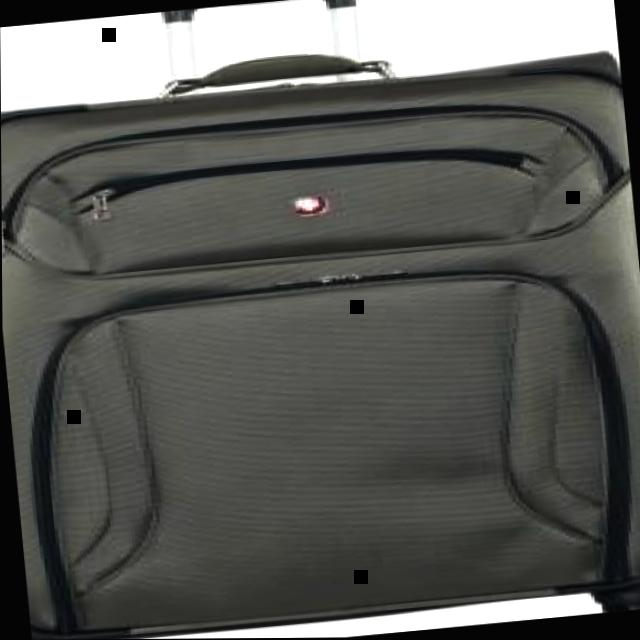luggage: (0, 38, 640, 640)
